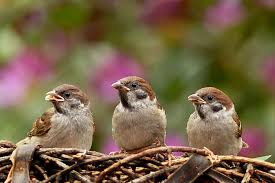hsparrow: (103, 75, 180, 152), (182, 83, 249, 162), (25, 80, 97, 152)
